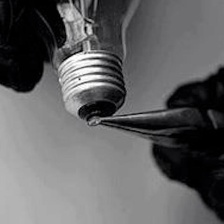light_bulb: (11, 0, 149, 128)
